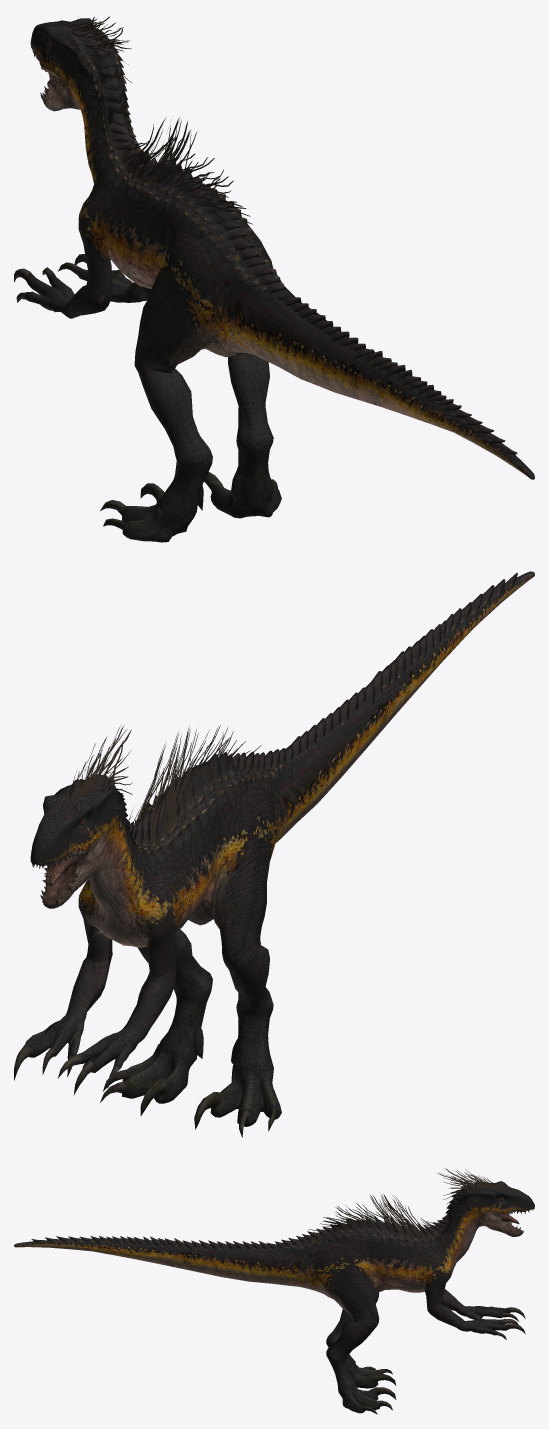
The model's file is dinosaur_indoraptor.glb.
The picture shows the model from 3 angles, top to bottom: view 1: azimuth 30°, elevation 25°; view 2: azimuth 150°, elevation 25°; view 3: azimuth 270°, elevation 25°; orthographic projection. The views are drawn at different scales.
Parts seen in each view (by area): view 1: Lvl40Indoraptor; view 2: Lvl40Indoraptor; view 3: Lvl40Indoraptor.
Boxes of the visible parts, <box> form: Lvl40Indoraptor: <box>14,16,534,542</box>; Lvl40Indoraptor: <box>14,571,534,1137</box>; Lvl40Indoraptor: <box>14,1168,534,1414</box>.
Bounding box in the file's own units: 1.36 × 3.38 × 7.02.
1 material, 1 textured.
